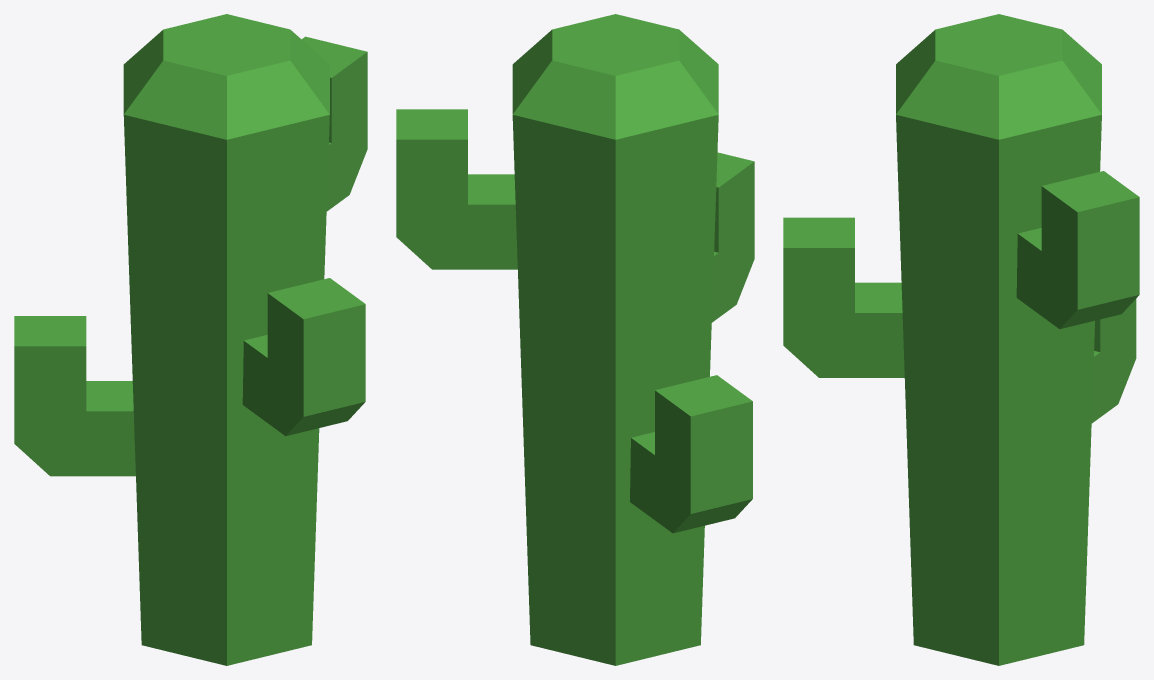
File: cactus_short.glb
3 views of the same model, side by side, from view 1: azimuth 30°, elevation 25°; view 2: azimuth 150°, elevation 25°; view 3: azimuth 270°, elevation 25° (orthographic).
Visible parts, largest first — view 1: cactus_short; view 2: cactus_short; view 3: cactus_short.
Part boxes in pixels (x1,y1,x2,y2): cactus_short: (14, 14, 367, 665); cactus_short: (396, 14, 754, 665); cactus_short: (783, 14, 1139, 665).
Size of the model in its own units: 0.3417 by 0.533 by 0.2972.
